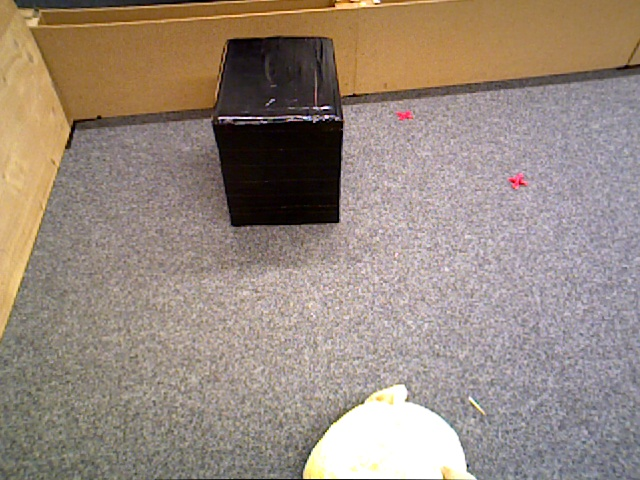grasp: (299, 399, 466, 480)
push: (215, 41, 344, 227)
